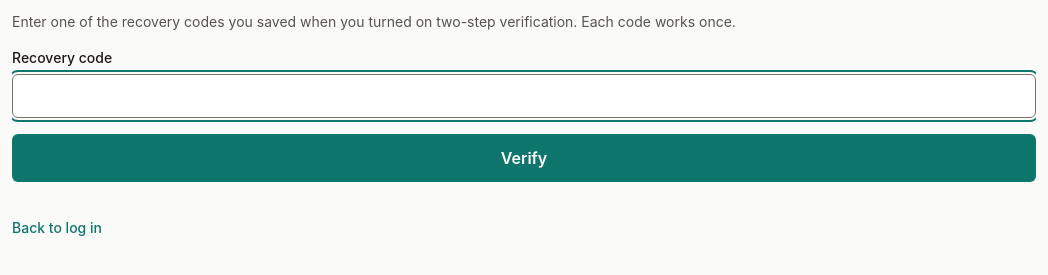
Test: VerifyLogin › asks for a recovery code before sending an empty one
The image size is (1048, 275).
Click the button "Verify".
click(524, 158)  # box [12, 134, 1036, 182]
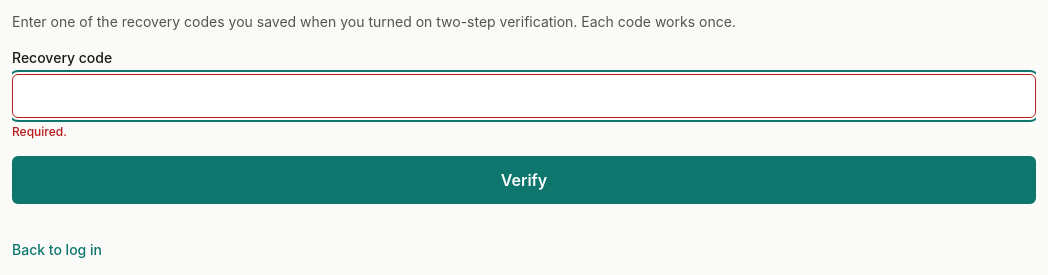
Check: the text "Required." is shown, box [12, 124, 67, 139]
